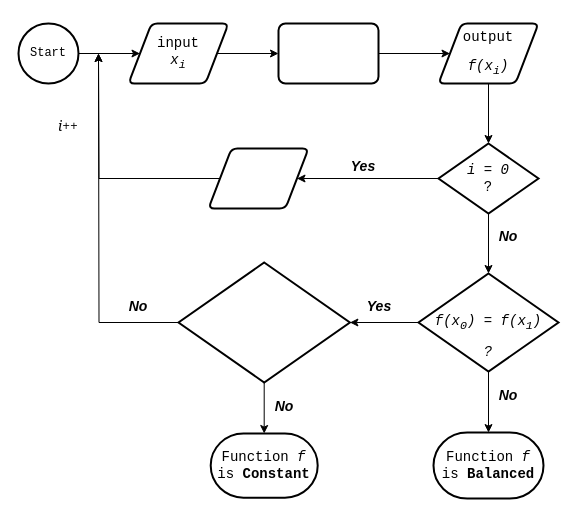
The diagram is 576 pixels wide and 517 high, and some of its shapes have lost their labels. The centre of each missing label's shape, as x and y in pixels:
"functon f" belongs at (328,53).
"i < 0.5(2 n ) + 1 ?" belongs at (263,322).
"Save f(x 0 )" belongs at (258,178).
